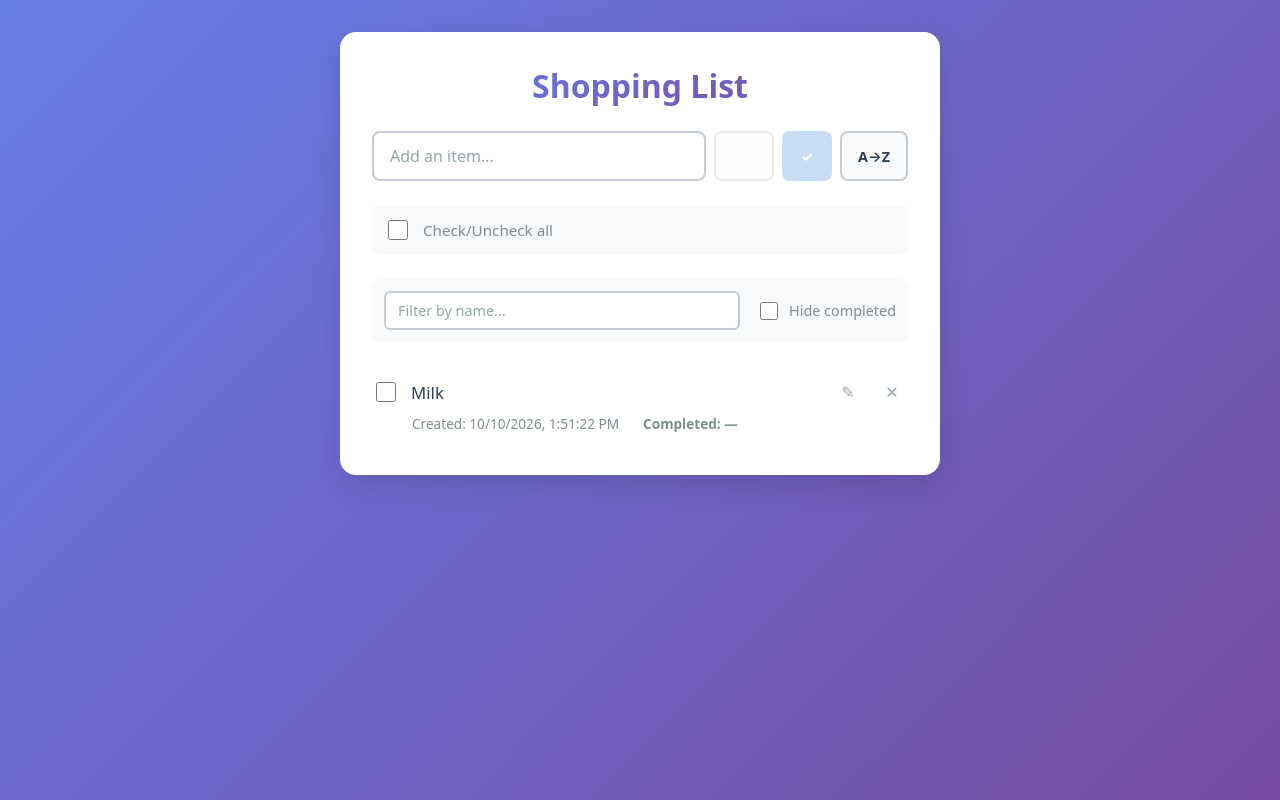
Test: App › shows a toast when toggle all fails
Step 1. Click the checkbox labelled "Check/Uncheck all" → (398, 230), box [388,220,408,240]
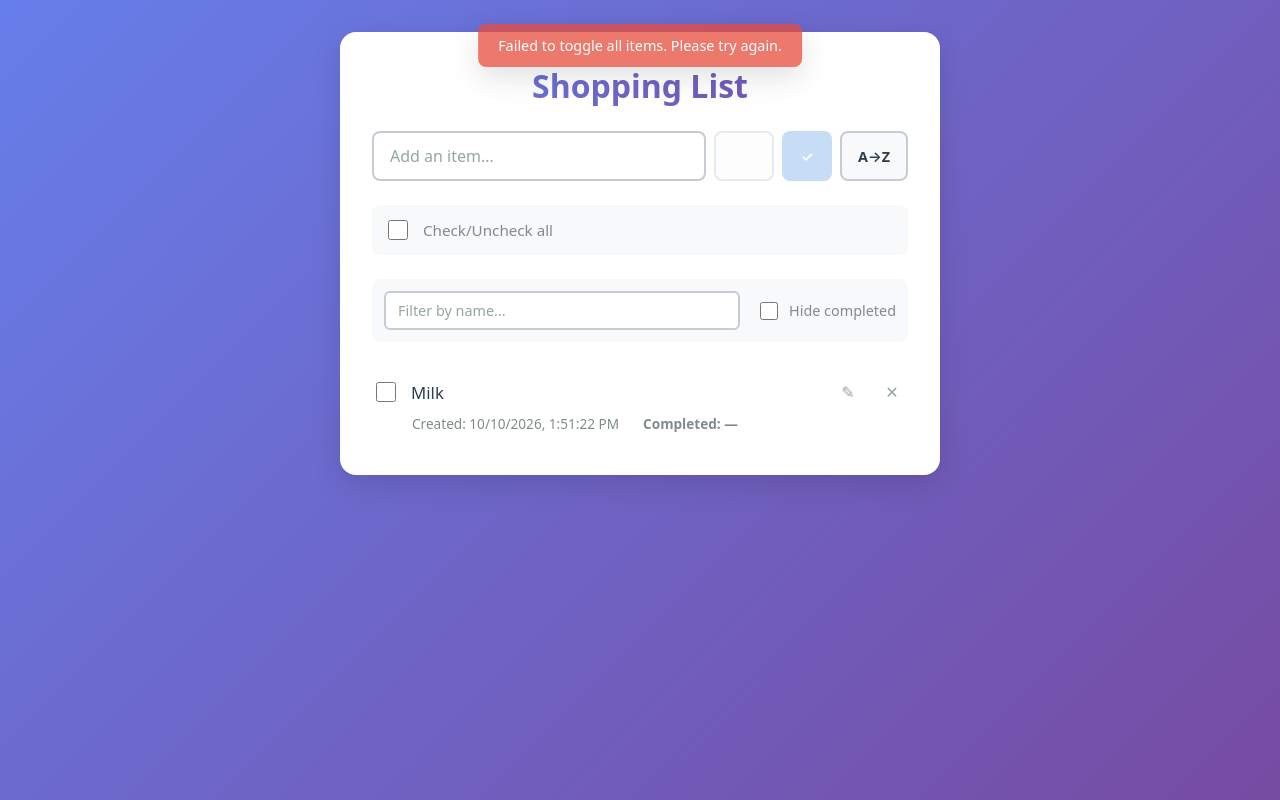
Check: the text "Failed to toggle all items. Please try again." is shown, box [478,24,802,67]
